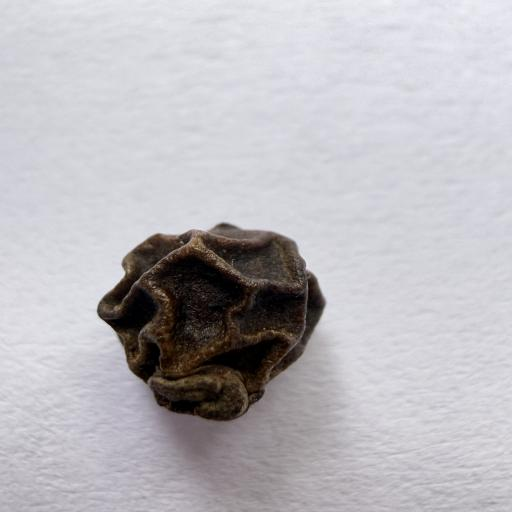Black_pepper: (62, 200, 346, 432)
